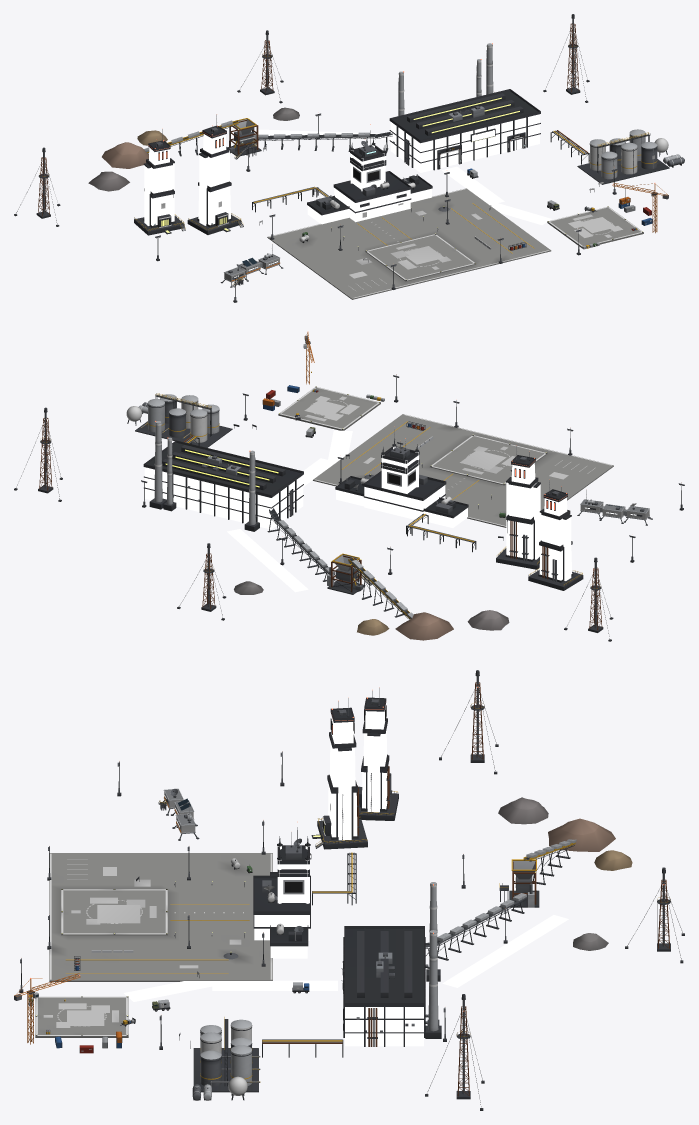
Rendered from Schmelzwerk.519f988392.glb.
3 views of the same model, one above another, from view 1: azimuth 30°, elevation 25°; view 2: azimuth 150°, elevation 25°; view 3: azimuth 270°, elevation 25° (orthographic). The views are drawn at different scales.
Parts seen in each view (by area): view 1: Schmelzwerk; view 2: Schmelzwerk; view 3: Schmelzwerk.
Part boxes in pixels (left/top/right/bottom): Schmelzwerk: left=14, top=14, right=684, bottom=302; Schmelzwerk: left=14, top=331, right=684, bottom=641; Schmelzwerk: left=14, top=670, right=684, bottom=1110.
Bounding box in the file's own units: 371 × 67.5 × 288.
